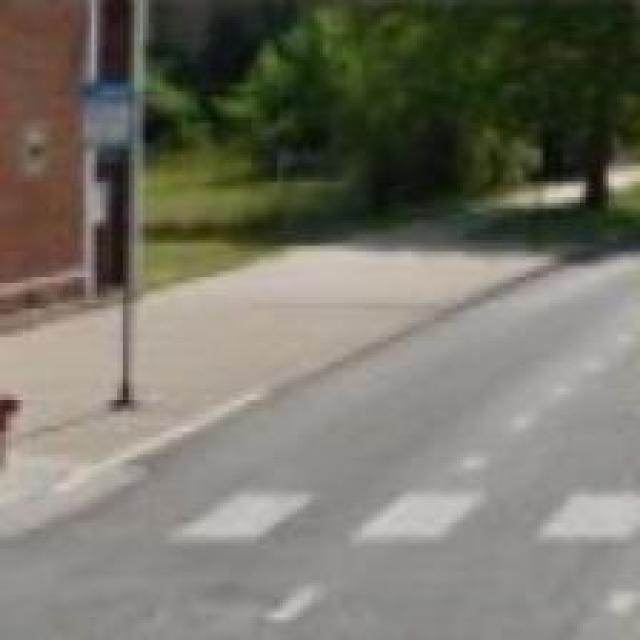walk-crossing: (168, 486, 636, 549)
